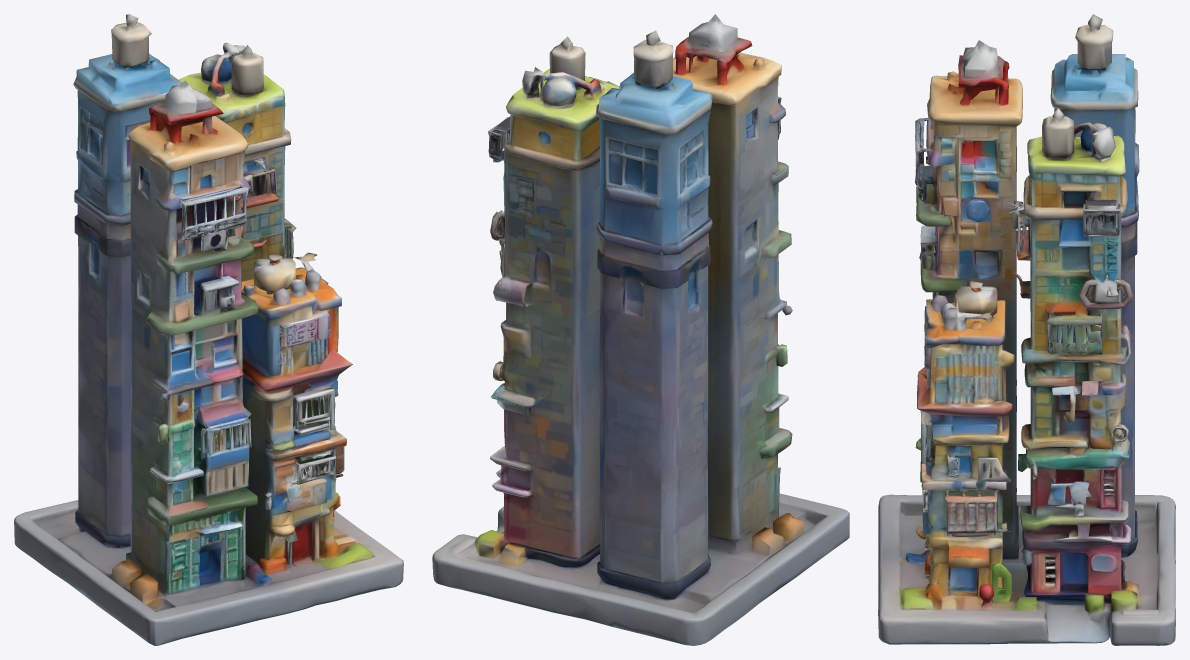
The model's file is longhua.glb.
3 views of the same model, side by side, from view 1: azimuth 30°, elevation 25°; view 2: azimuth 150°, elevation 25°; view 3: azimuth 270°, elevation 25° (orthographic). The views are drawn at different scales.
Visible parts, largest first — view 1: tripo_node_dc4ab330-a558-4349-9a21-c6f216a42b76; view 2: tripo_node_dc4ab330-a558-4349-9a21-c6f216a42b76; view 3: tripo_node_dc4ab330-a558-4349-9a21-c6f216a42b76.
Part boxes in pixels (<box>): tripo_node_dc4ab330-a558-4349-9a21-c6f216a42b76: <box>14,14,403,645</box>; tripo_node_dc4ab330-a558-4349-9a21-c6f216a42b76: <box>432,14,849,645</box>; tripo_node_dc4ab330-a558-4349-9a21-c6f216a42b76: <box>878,14,1175,645</box>.
Size of the model in its own units: 0.5056 by 1 by 0.494.
Materials: 1 (1 with a texture image).
